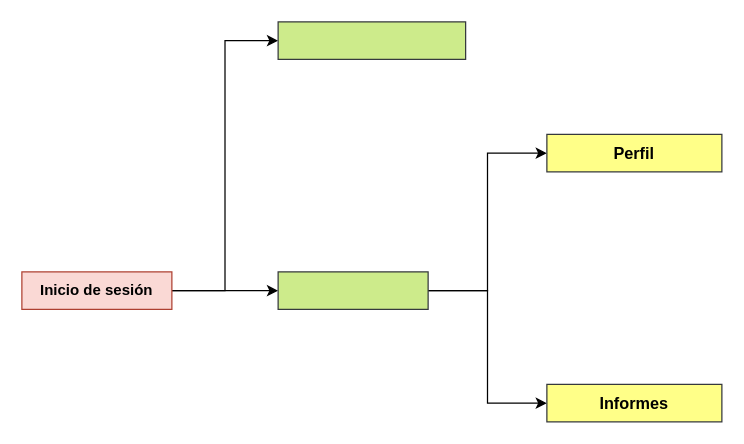
Image size: 744x444. Some labels were removed from this diagram. Here are the shapes that lost their labels. From the top down, the centre of each, then its label:
point (371, 40): Recuperar contraseña
point (352, 290): Inicio
